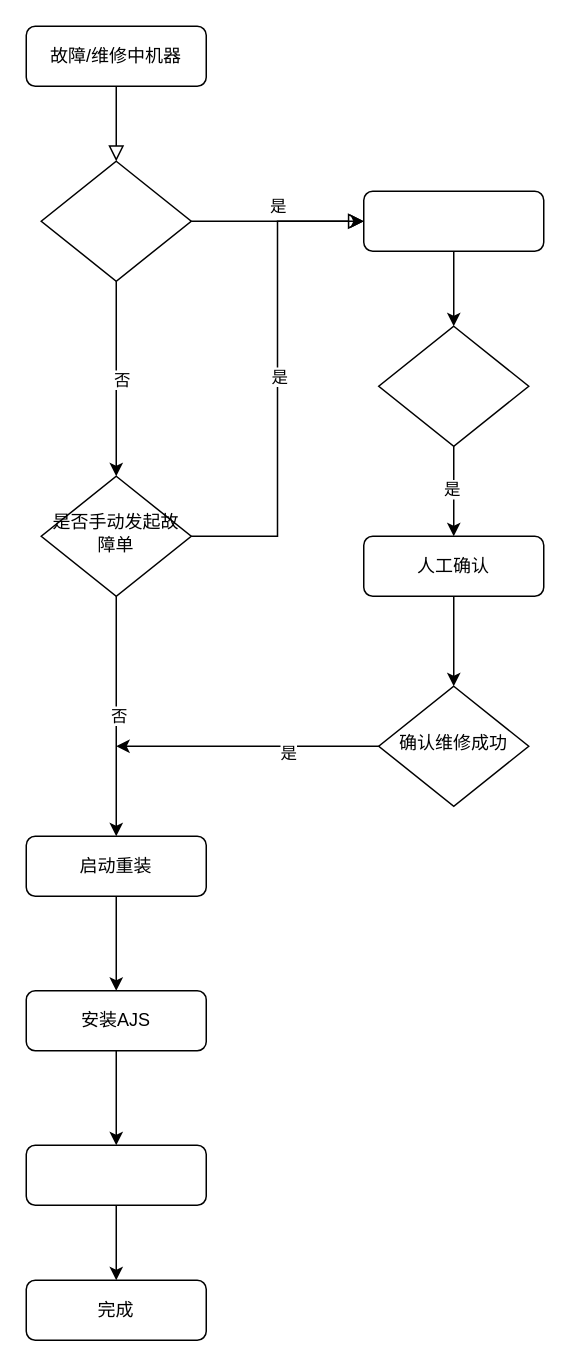
The diagram is 570 pixels wide and 1367 high, and some of its shapes have lost their labels. Here are the shapes that lost their labels. From the top down, the centre of each, then its label:
At (x=115, y=220): "是否有故障单".
At (x=453, y=220): "故障单信息查询".
At (x=453, y=385): "故障单是否完成".
At (x=115, y=1174): "修改模块至buffer池".
